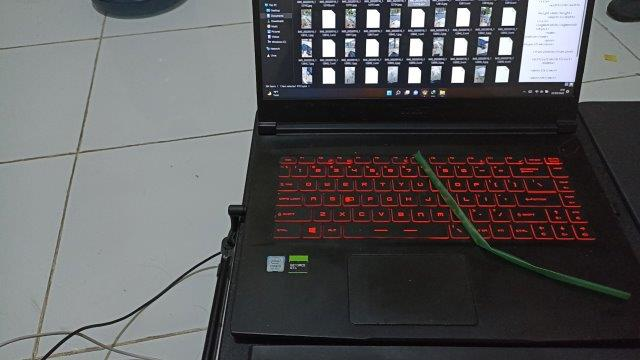sedotan: (416, 154, 628, 297)
